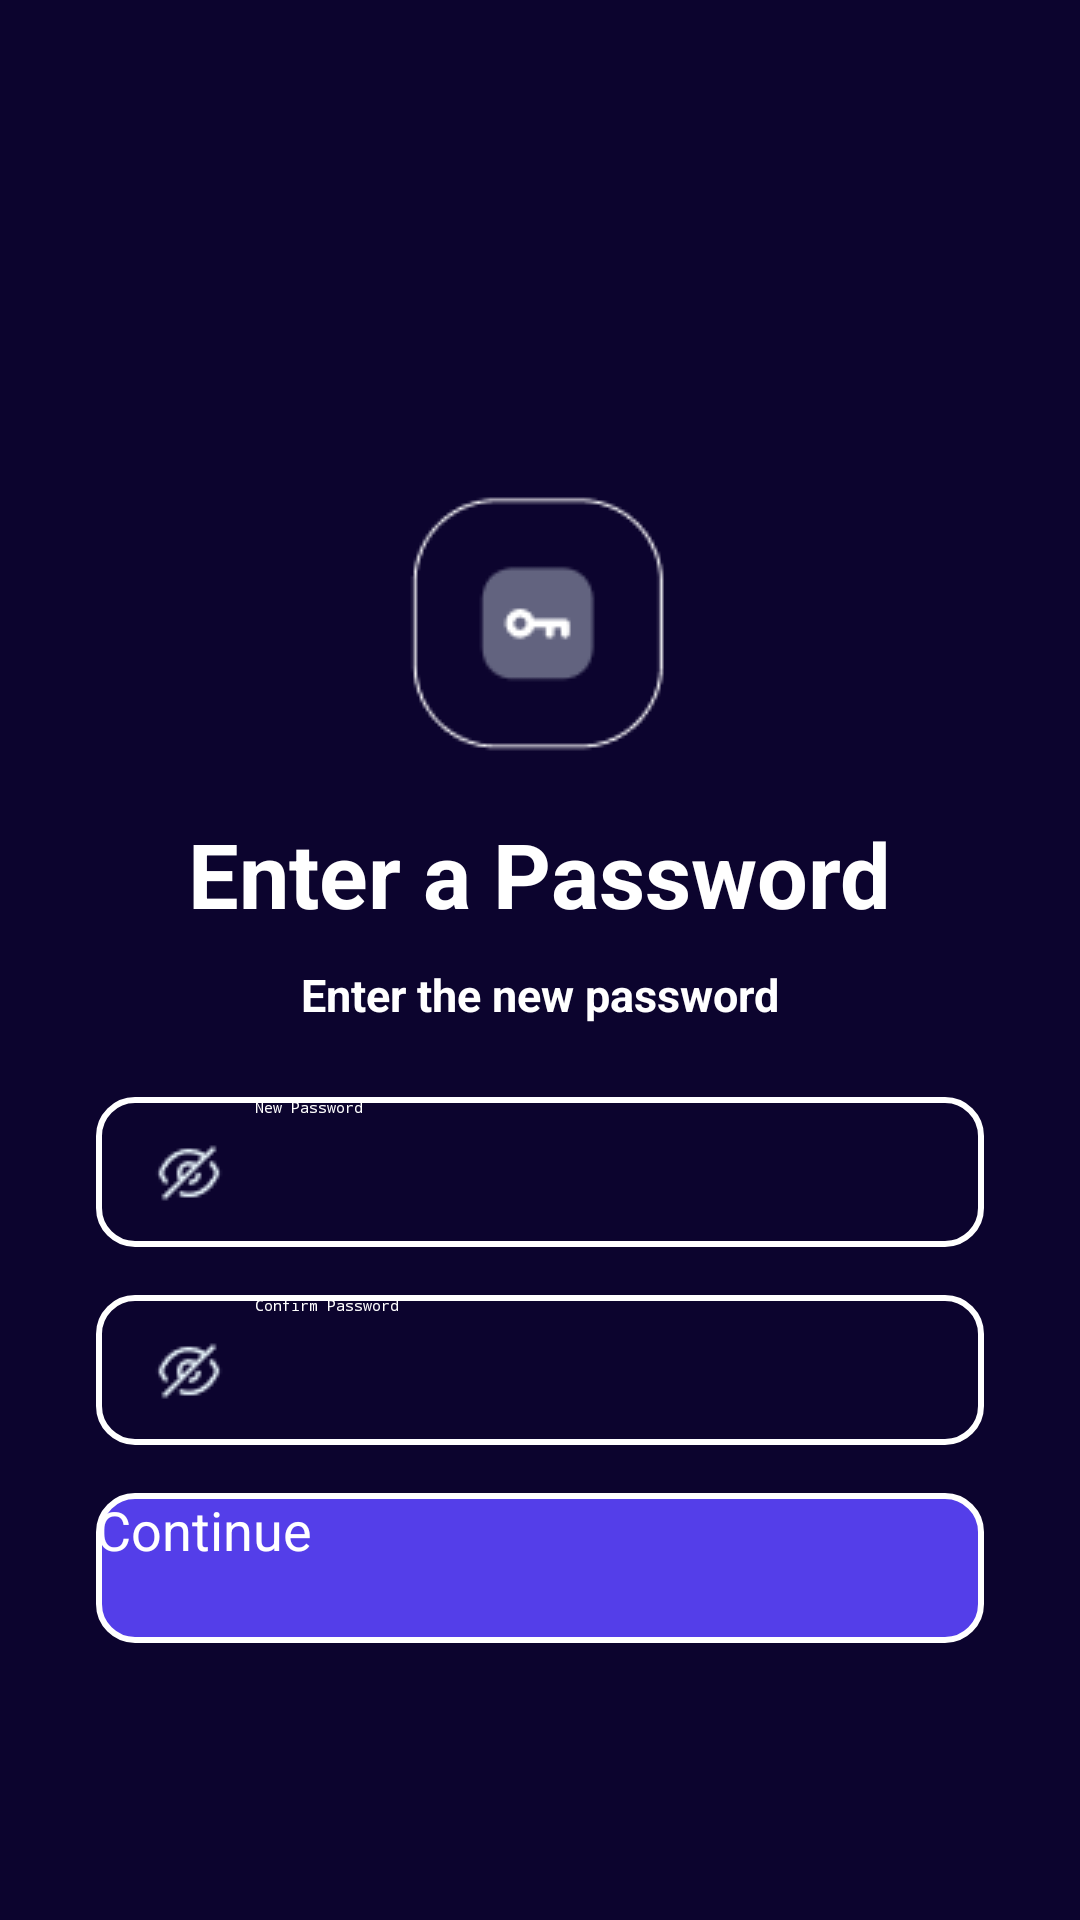

Screen size 1080×1920. Icon name, then its box in pixels as (x1, y1, x2, y2):
key: (412, 497, 664, 750)
